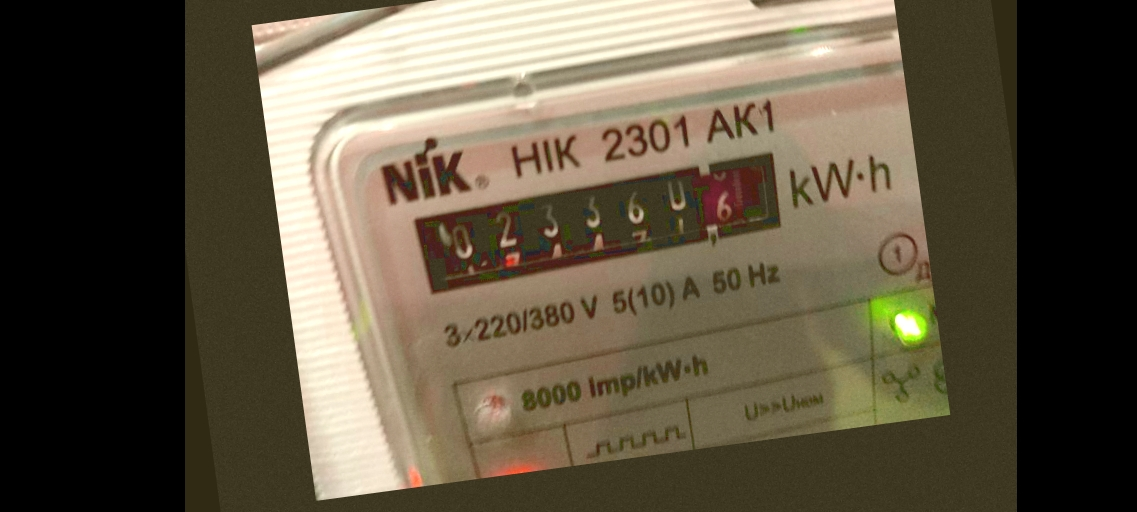0: (447, 217, 477, 262), (663, 173, 691, 213)
2: (490, 205, 521, 248)
3: (536, 198, 562, 240), (577, 190, 604, 230)
6: (619, 184, 650, 228), (712, 186, 738, 224)
screen: (388, 135, 801, 306)
